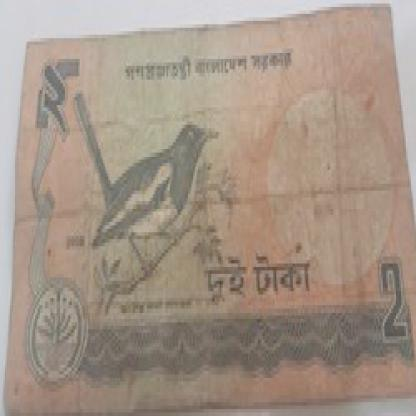two taka: (197, 260, 324, 312), (38, 69, 80, 146)
